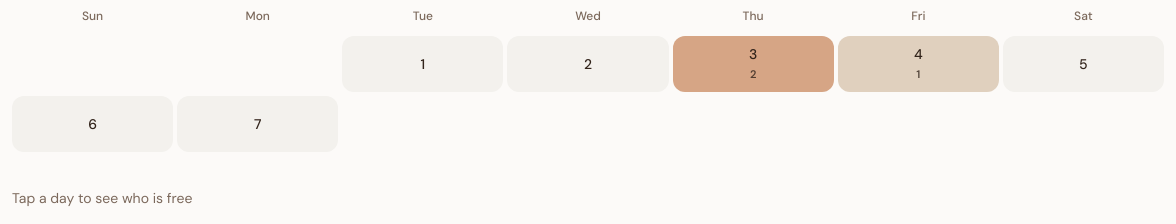
Test: AvailabilityCalendar › who is free, in read-only mode › names who is free when a day is tapped
Click the button "3 2". click: (753, 64)
box: top-left (673, 36), bottom-right (834, 92)
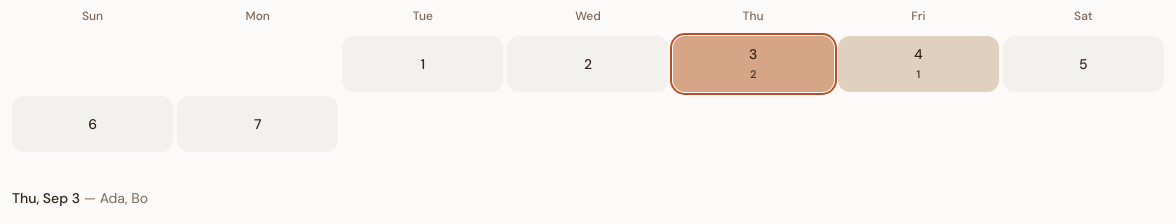
Now the element with test id "availability-detail" shows "Ada, Bo", box top-left (100, 189), bottom-right (148, 207)
